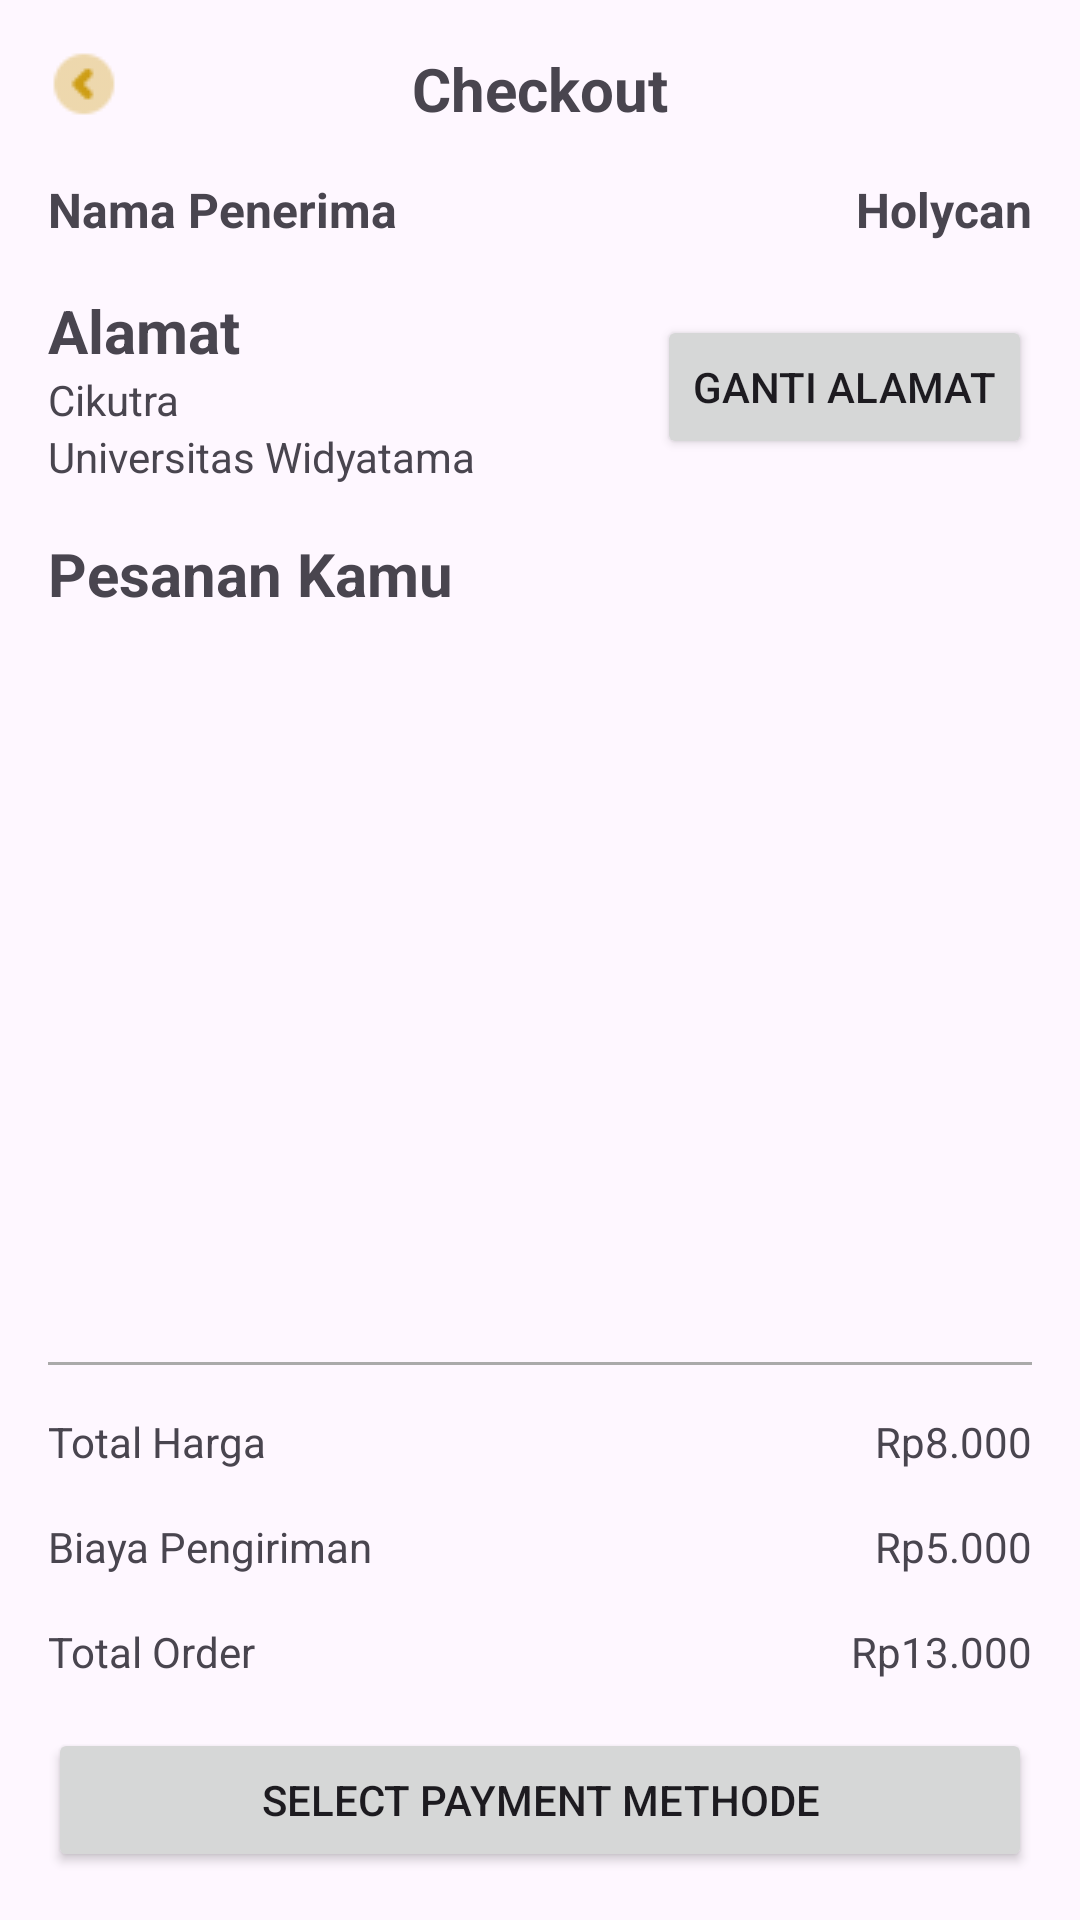

Icons on this 1080px×1920px Android screen, each with the point to tap as point (x, y):
arrow left: point (84, 84)
